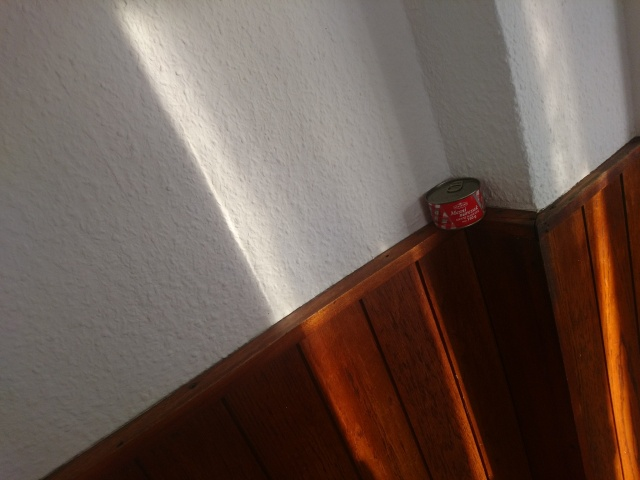Podravka Luncheon Meat 150g: (421, 174, 490, 233)
